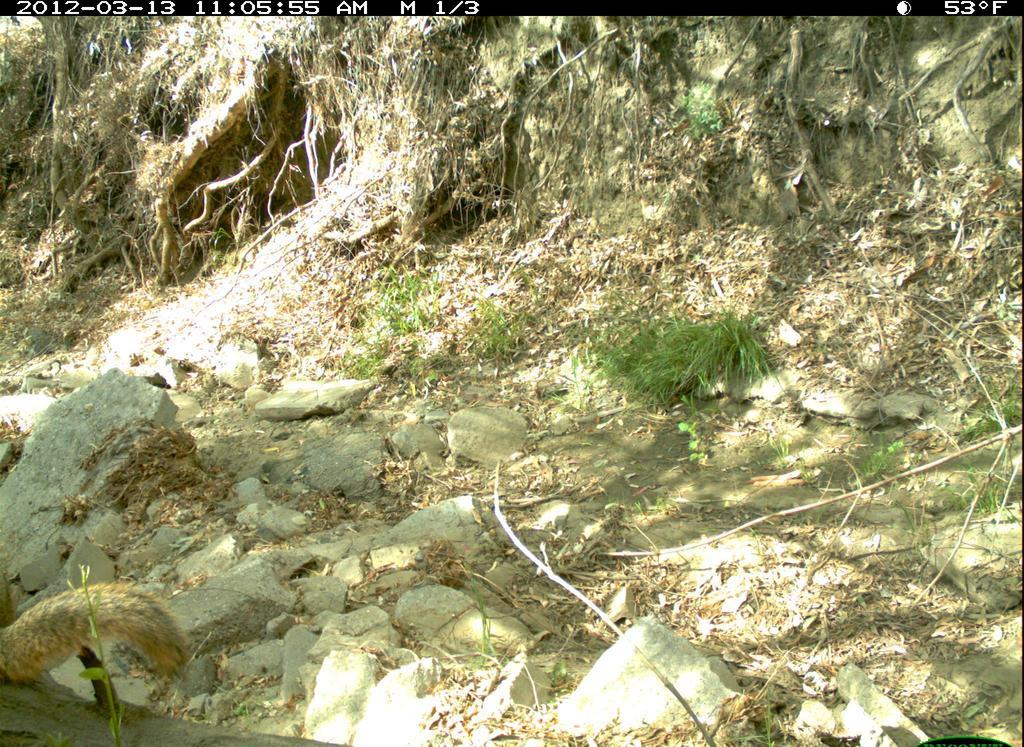squirrel: (1, 565, 196, 714)
